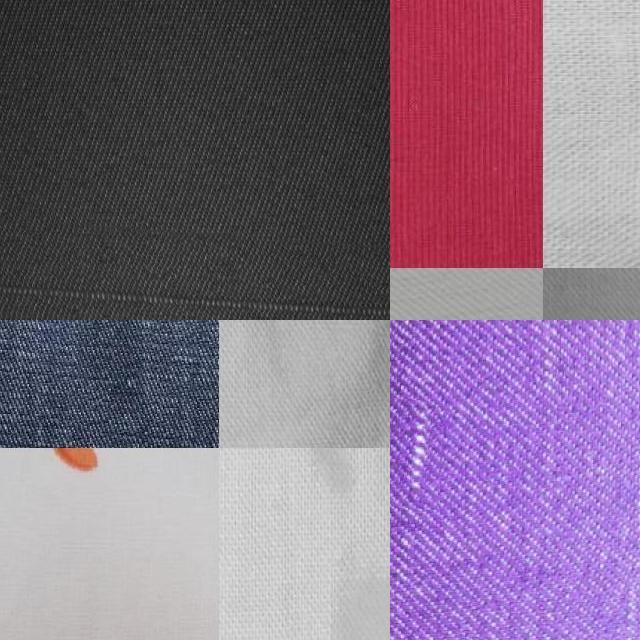Thread_other: (390, 67, 424, 268)
stains: (0, 222, 390, 320), (390, 398, 442, 509)
